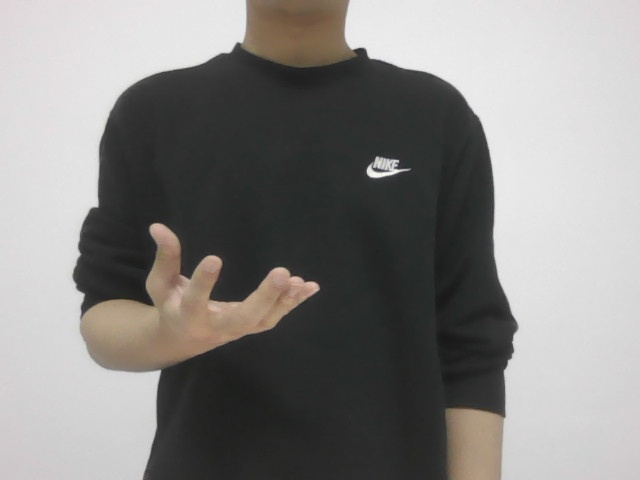flavor: (135, 216, 320, 360)
